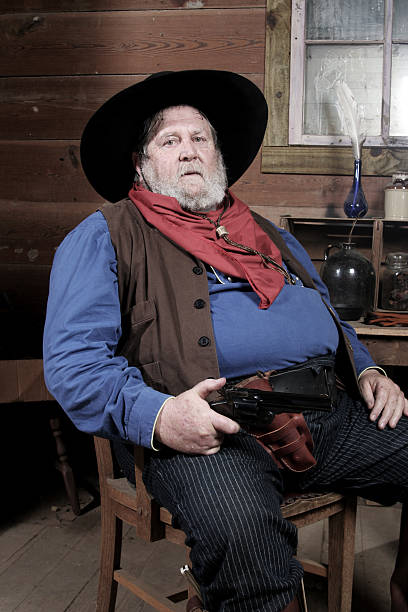gun: (208, 383, 334, 439)
